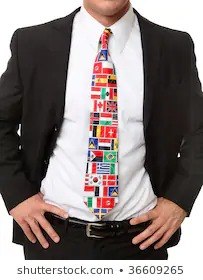F_tie: (79, 18, 126, 225)
